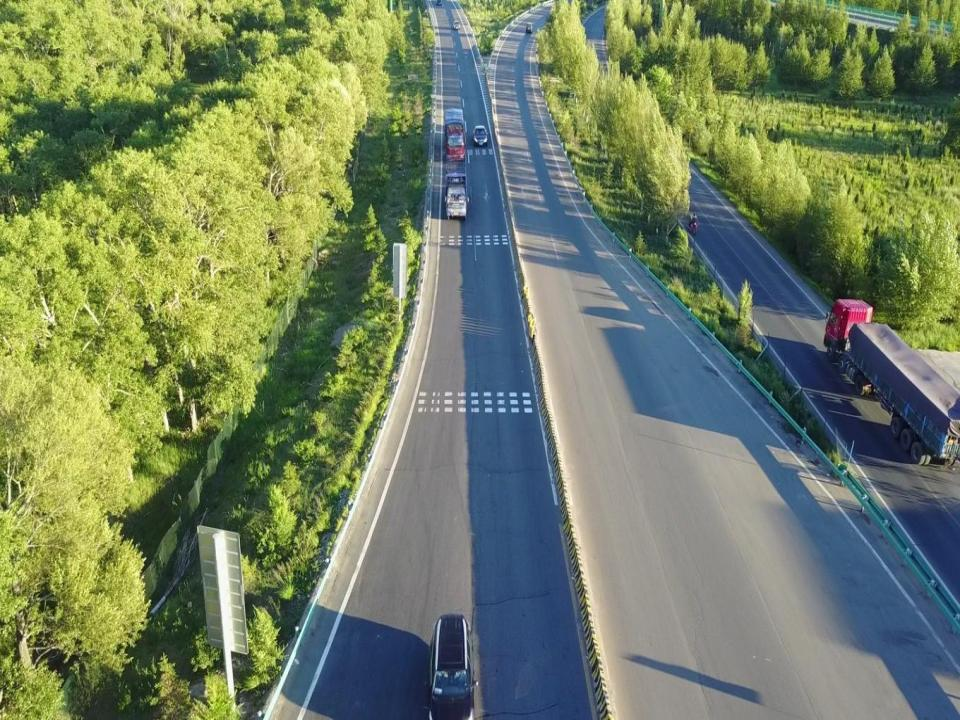car: (425, 613, 478, 720), (472, 124, 488, 148), (525, 21, 532, 34), (452, 19, 460, 30), (434, 0, 442, 6)
truck: (823, 298, 960, 470), (444, 161, 470, 219), (442, 107, 466, 163)
